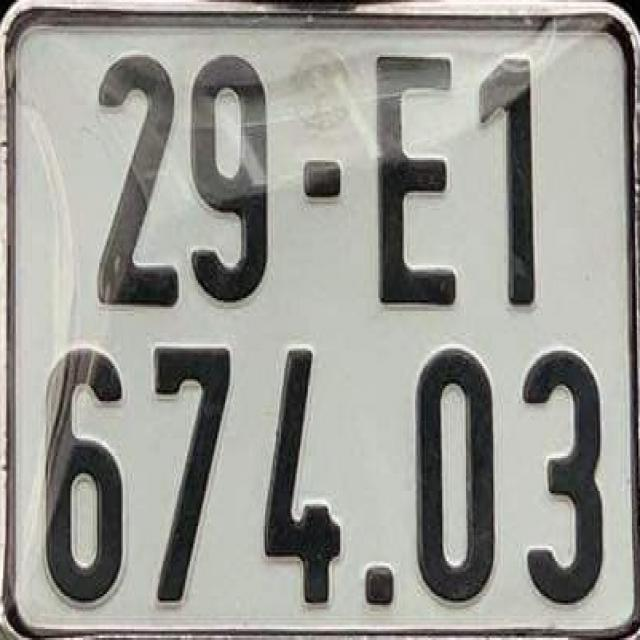0: (404, 338, 504, 612)
1: (469, 42, 557, 314)
2: (82, 39, 185, 318)
3: (516, 340, 610, 609)
4: (252, 335, 353, 614)
6: (35, 338, 131, 612)
7: (143, 333, 234, 609)
9: (180, 42, 282, 314)
E: (364, 35, 466, 316)
